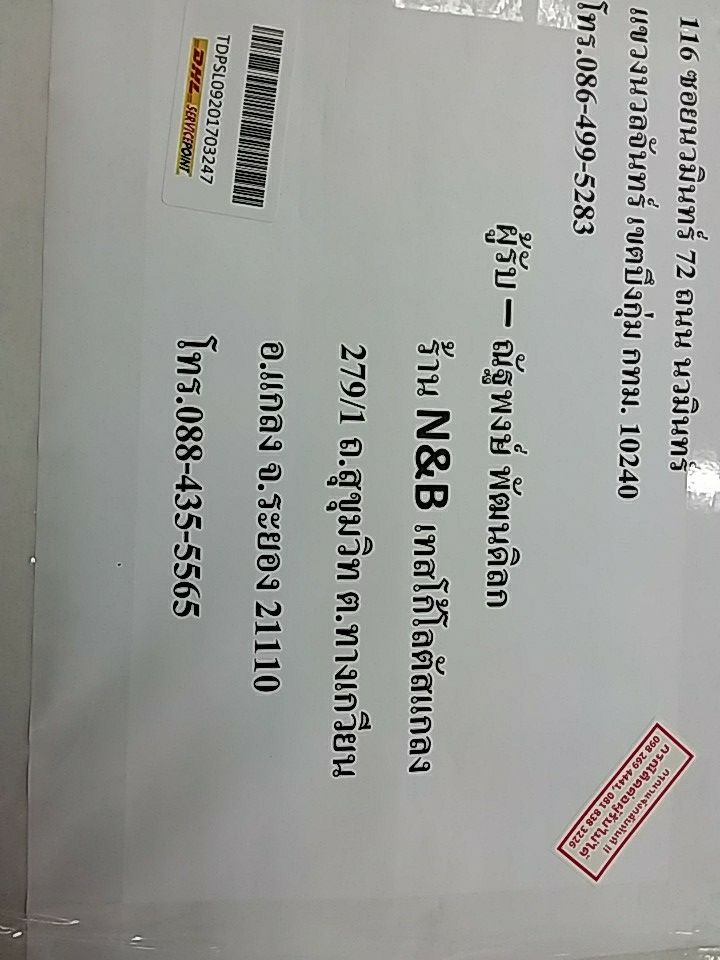ba: (161, 1, 292, 236)
txt: (158, 218, 540, 804), (568, 1, 711, 516)
